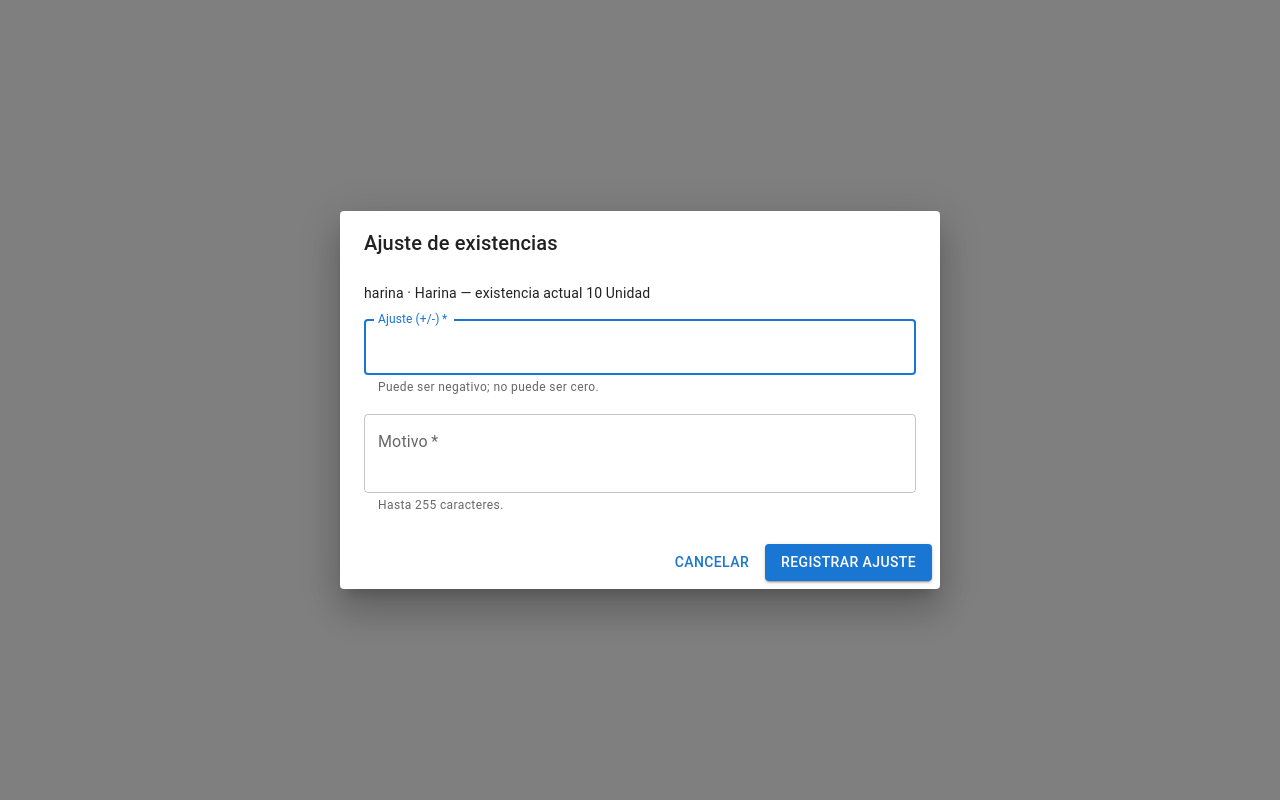
it: StockMutationDialog › requires a reason for an adjustment
Type "-2.5" into the field labelled "Ajuste (+/-) *" at (640, 347), box [364,319,916,375]
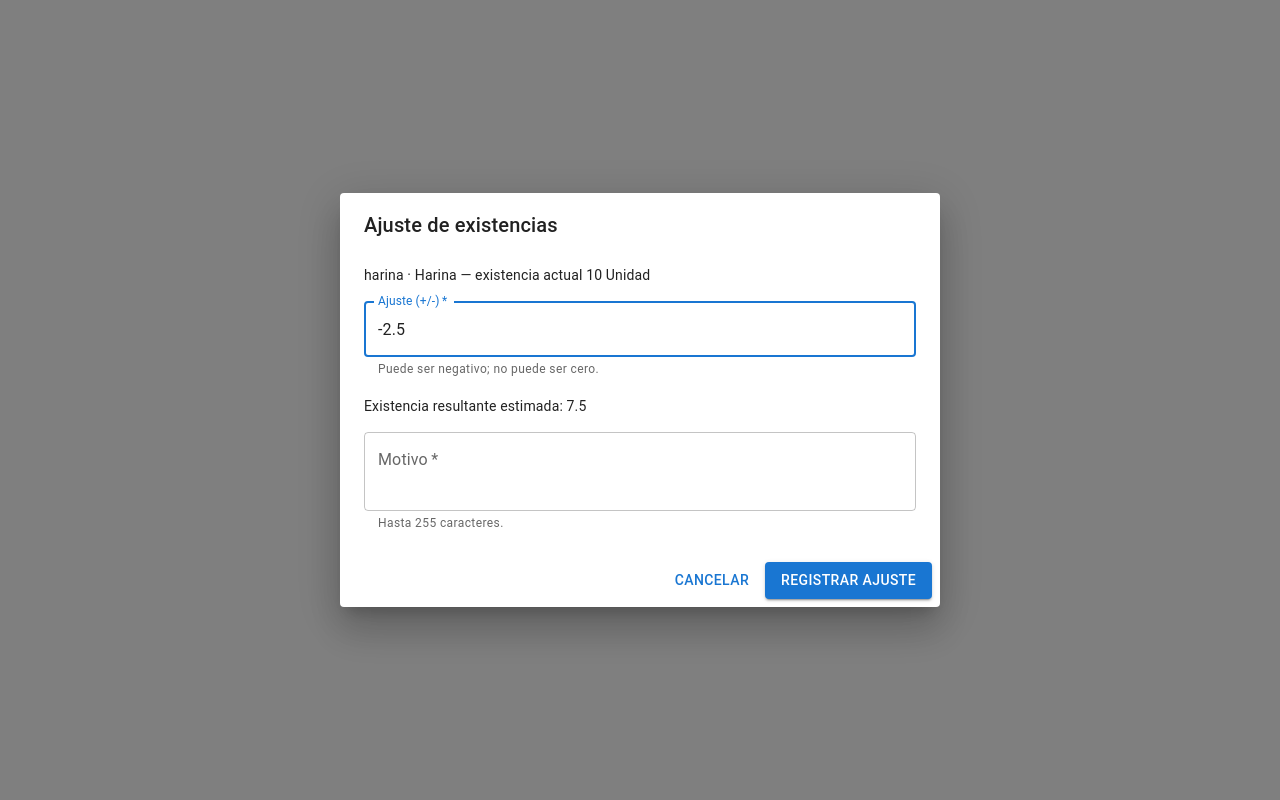
Click the button "Registrar ajuste" at (849, 580), box [765,562,932,599]
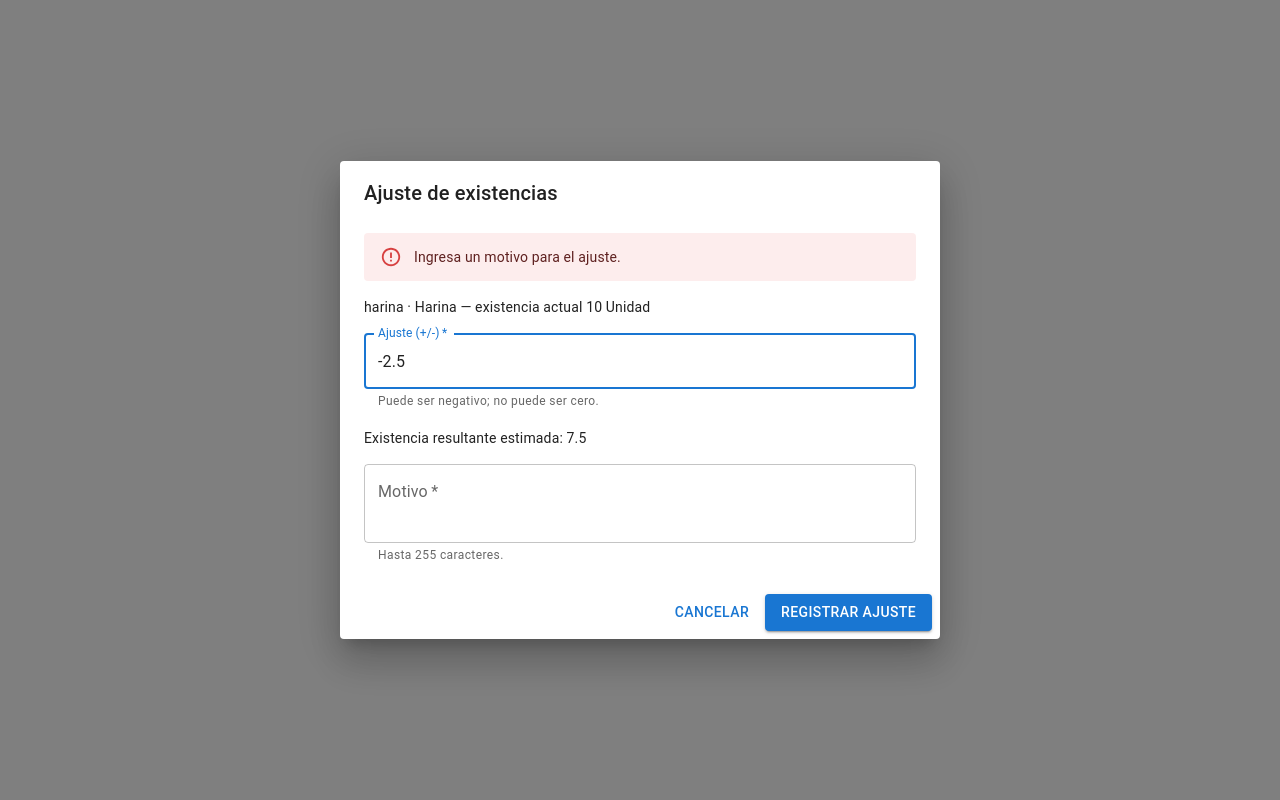
Expected: the text "Ingresa un motivo para el ajuste." is shown, [414,249,621,265]
